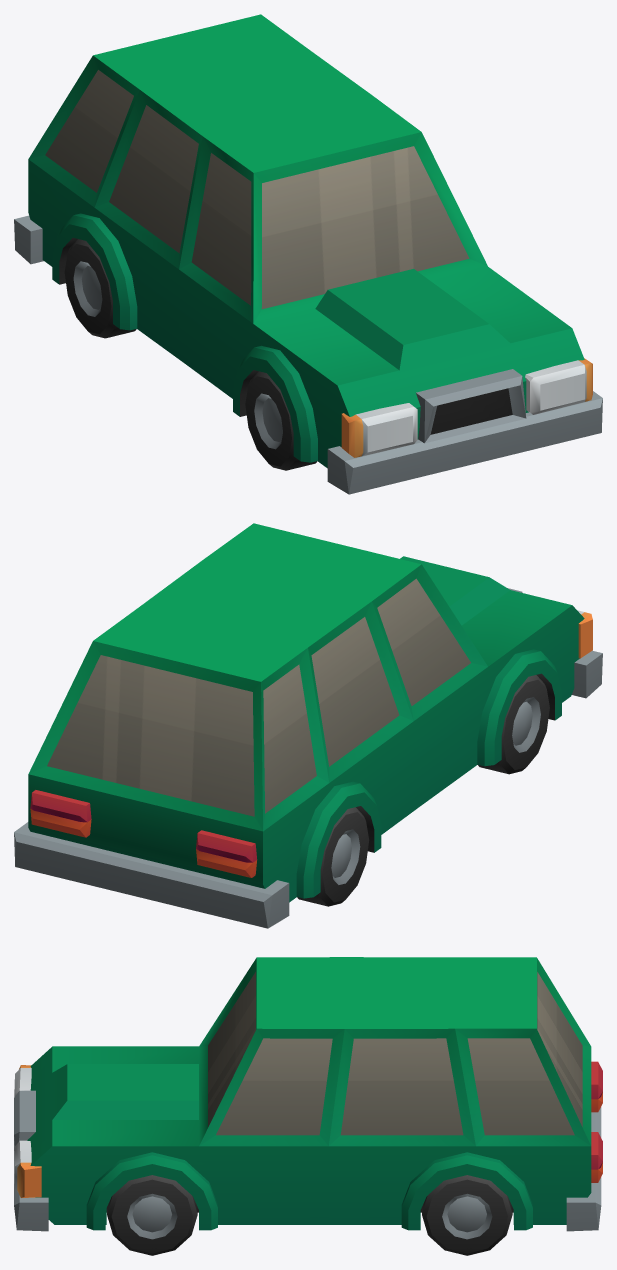
The model's file is car_stationwagon.fbx.
The picture shows the model from 3 angles, top to bottom: view 1: azimuth 30°, elevation 25°; view 2: azimuth 150°, elevation 25°; view 3: azimuth 270°, elevation 25°; orthographic projection. The views are drawn at different scales.
Visible parts, largest first — view 1: car_stationwagon; view 2: car_stationwagon; view 3: car_stationwagon.
Part boxes in pixels (x1,y1,x2,y2): car_stationwagon: (14,14,602,494); car_stationwagon: (14,523,602,928); car_stationwagon: (14,957,602,1255).
Bounding box in the file's own units: 41.9 × 36.88 × 93.81.
